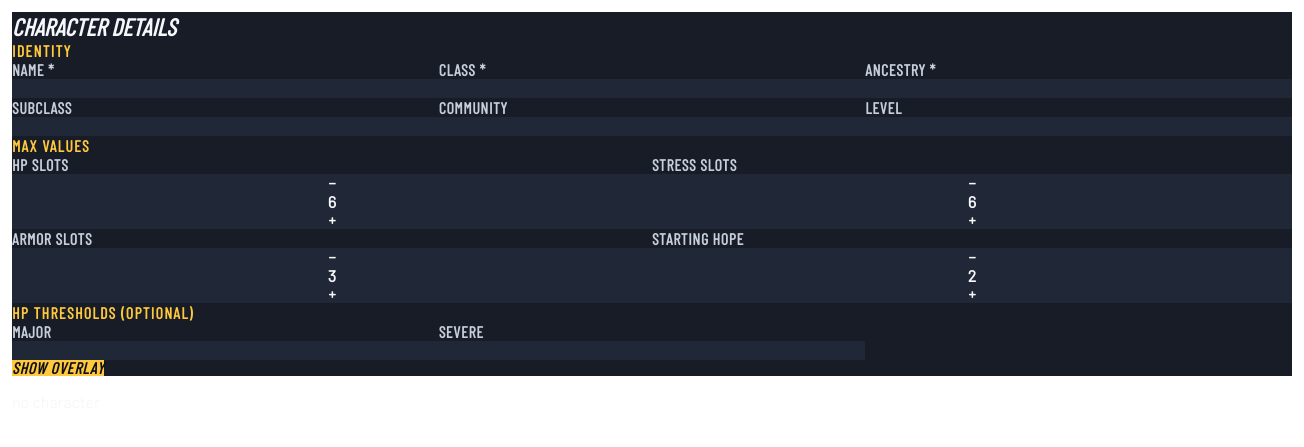
Test: CharacterSetup › rejects submit when required identity fields are blank
The width and height of the screenshot is (1304, 447).
Click the button "Show overlay" at (58, 368), box [12, 360, 104, 376]
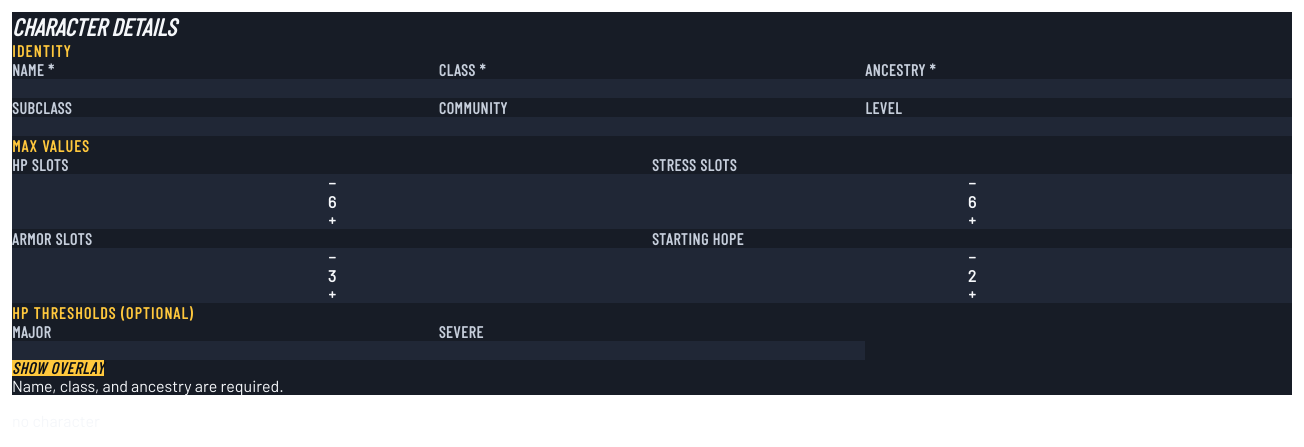
Result: the message shows "required" at [12, 376, 284, 395]
